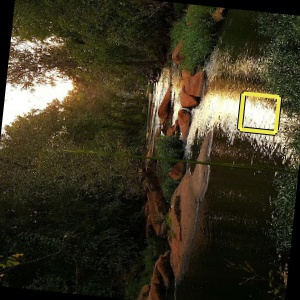square: (236, 90, 282, 137)
